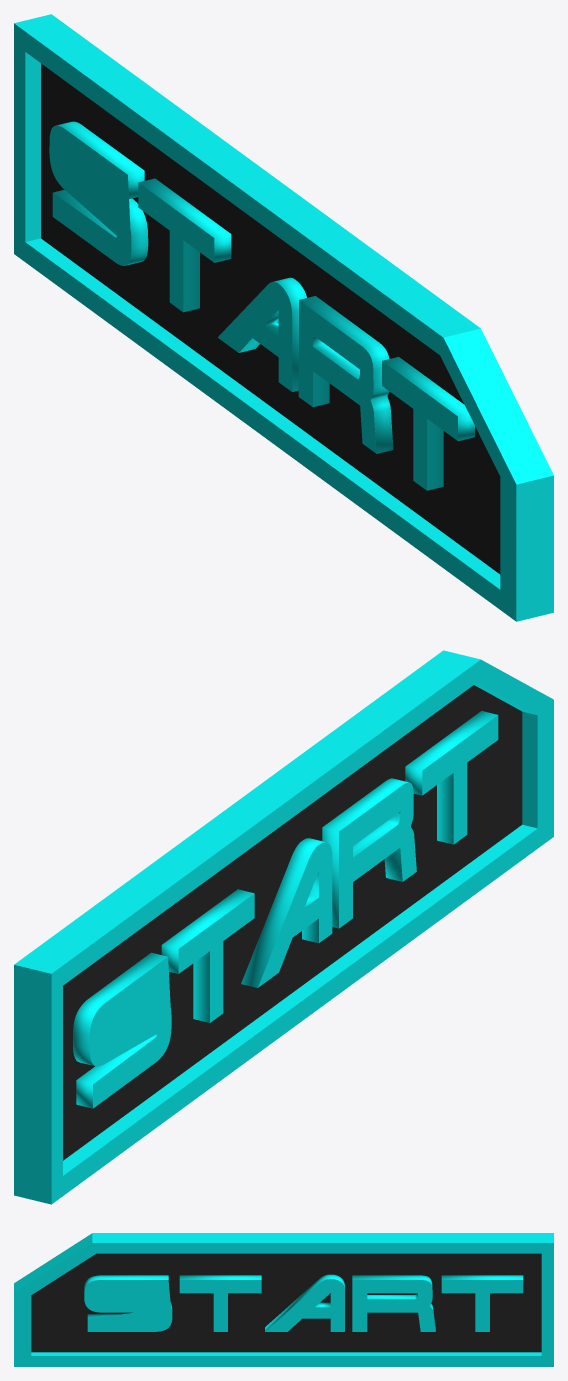
File: startknapp.fbx
3 renders of one model, top to bottom at view 1: azimuth 30°, elevation 25°; view 2: azimuth 150°, elevation 25°; view 3: azimuth 270°, elevation 25°, orthographic. The views are drawn at different scales.
Parts seen in each view (by area): view 1: Text.001; view 2: Text.001; view 3: Text.001.
Boxes of the visible parts, box(x1,y1,x2,y2) form: Text.001: box(14, 14, 553, 621); Text.001: box(14, 650, 553, 1204); Text.001: box(14, 1233, 553, 1366).
Size of the model in its own units: 28.19 by 146 by 576.
